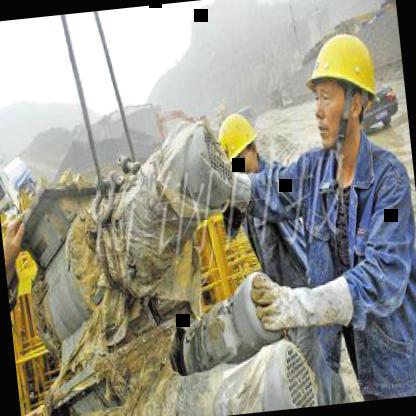helmet: (296, 16, 392, 158), (210, 103, 270, 188)
